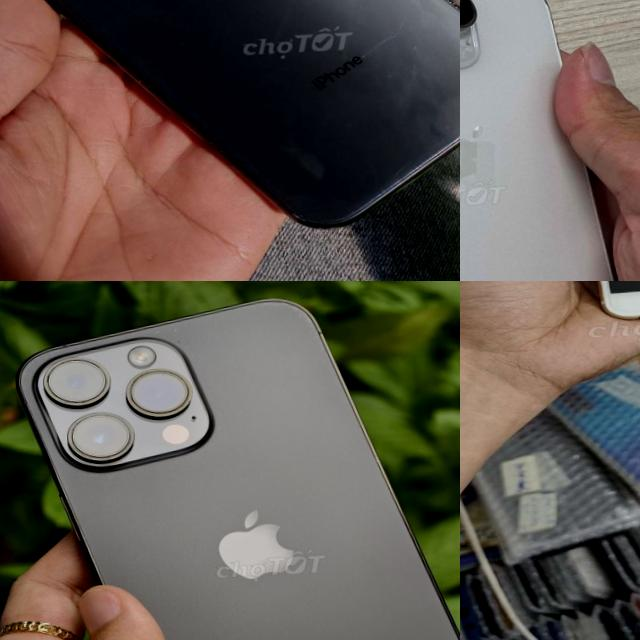gen_14: (17, 281, 460, 640), (460, 0, 640, 281)
gen_x_xs: (49, 0, 460, 226)
